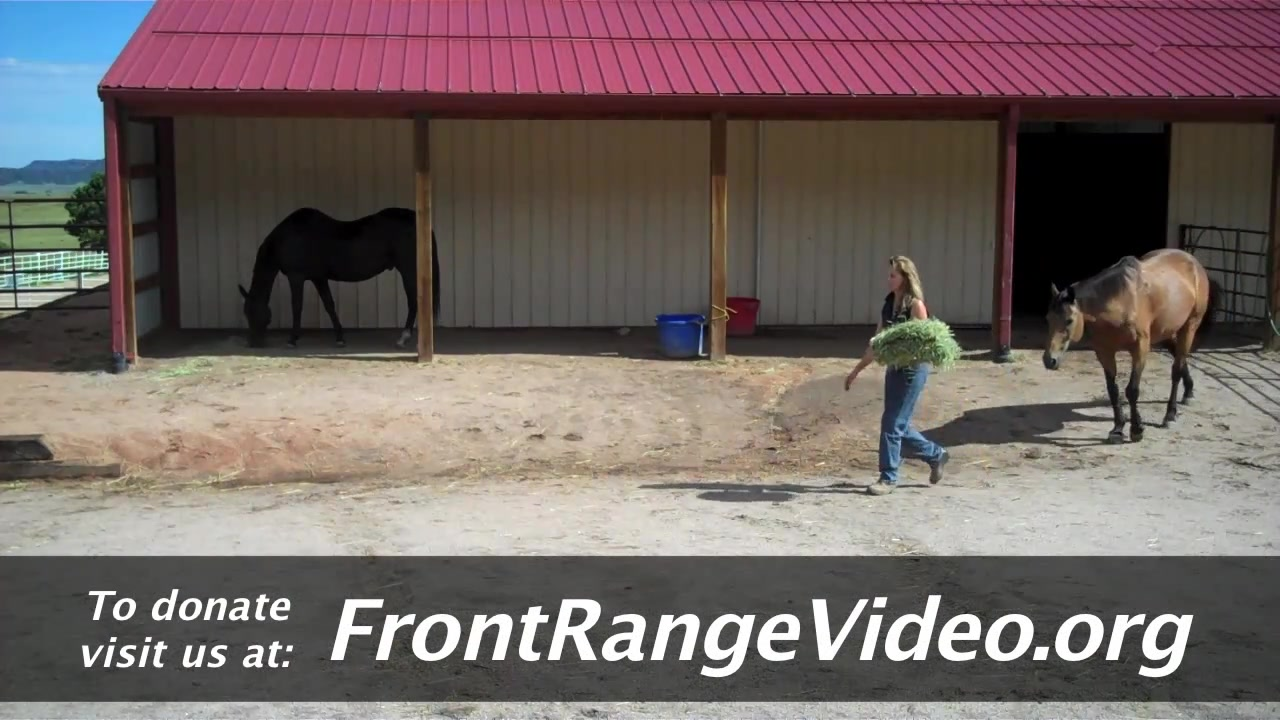horse: (1043, 244, 1215, 449), (238, 202, 447, 354)
